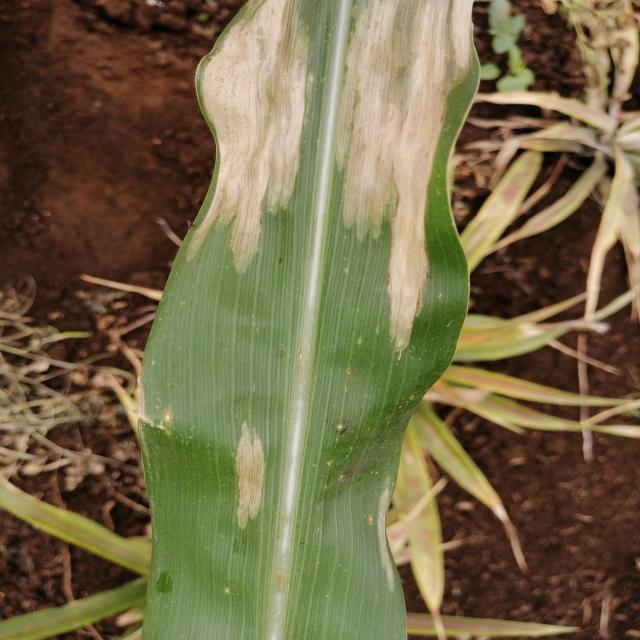Corn_Leaf_Blight: (134, 3, 480, 640)
